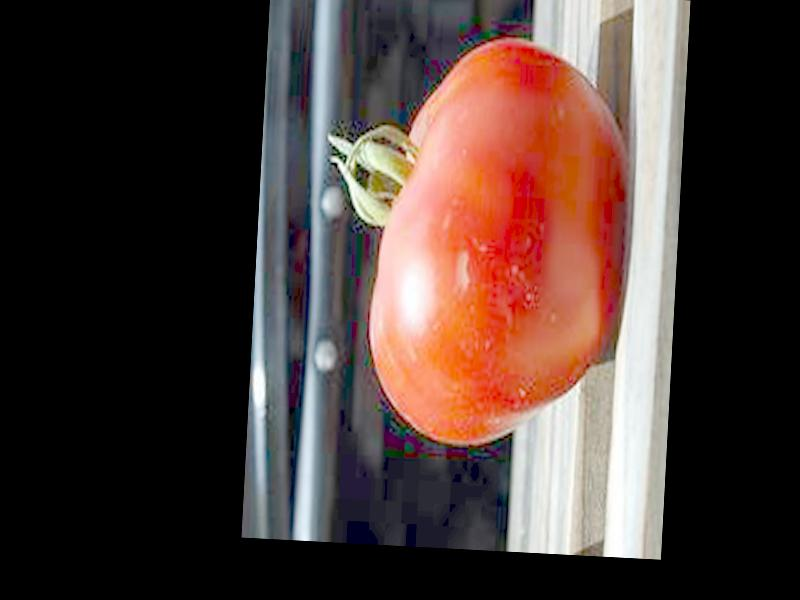Tomato: (314, 31, 630, 451)
